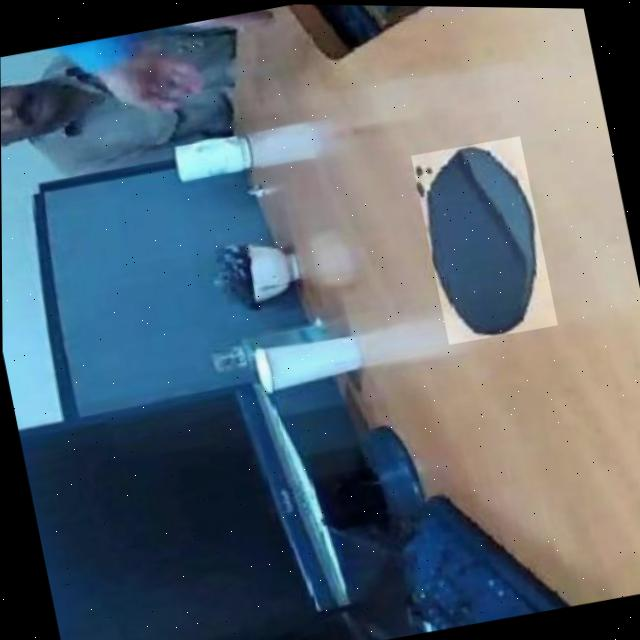spillage: (425, 143, 540, 331)
